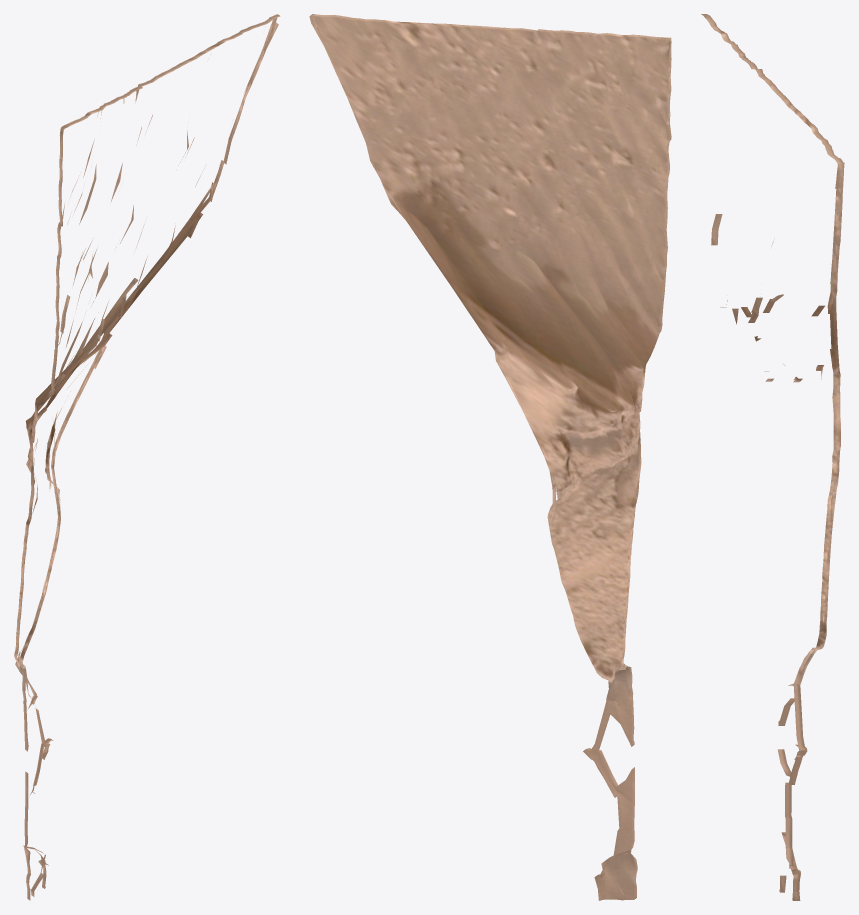
3 views of the same model, side by side, from view 1: azimuth 30°, elevation 25°; view 2: azimuth 150°, elevation 25°; view 3: azimuth 270°, elevation 25° (orthographic). The views are drawn at different scales.
Bounding box in the file's own units: 0.5357 × 1.46 × 0.2176.
1 material, 1 textured.
